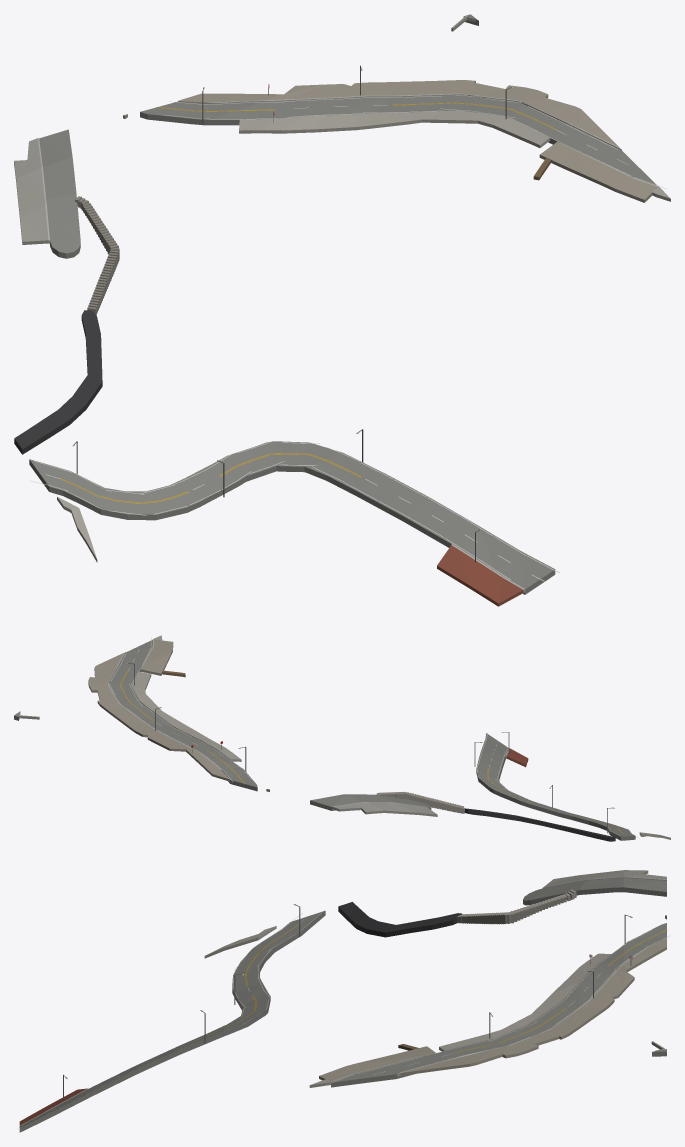
Rendered from 18-218896-118967.0c64dea9.glb.
The picture shows the model from 3 angles, top to bottom: view 1: azimuth 30°, elevation 25°; view 2: azimuth 150°, elevation 25°; view 3: azimuth 270°, elevation 25°; orthographic projection. The views are drawn at different scales.
Bounding box in the file's own units: 151 × 57.75 × 148.
